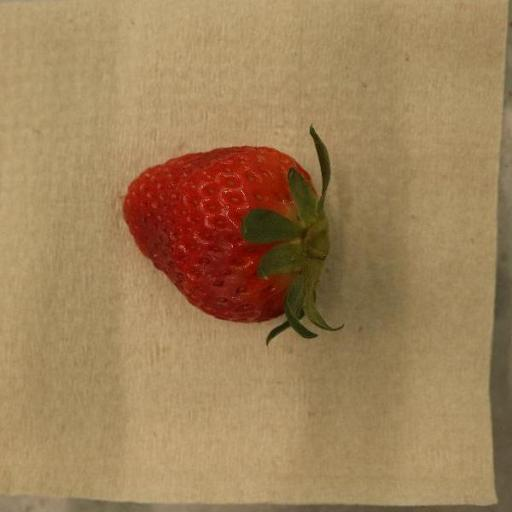Strawberry: (123, 131, 345, 346)
